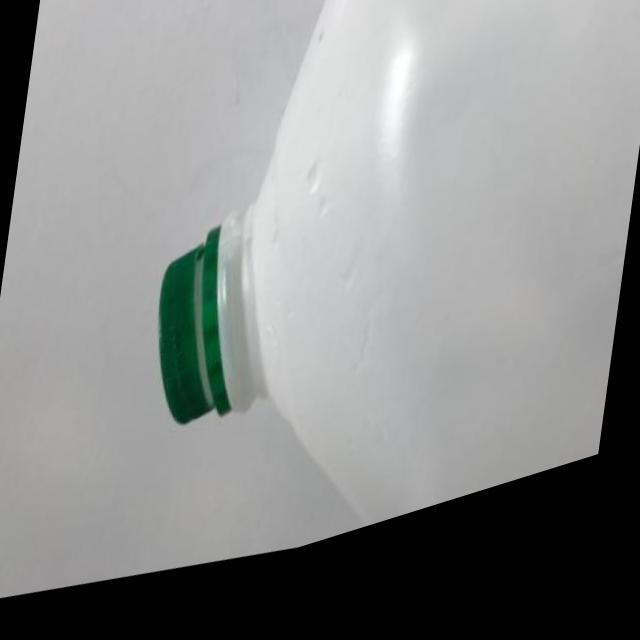plastic: (118, 0, 640, 611)
